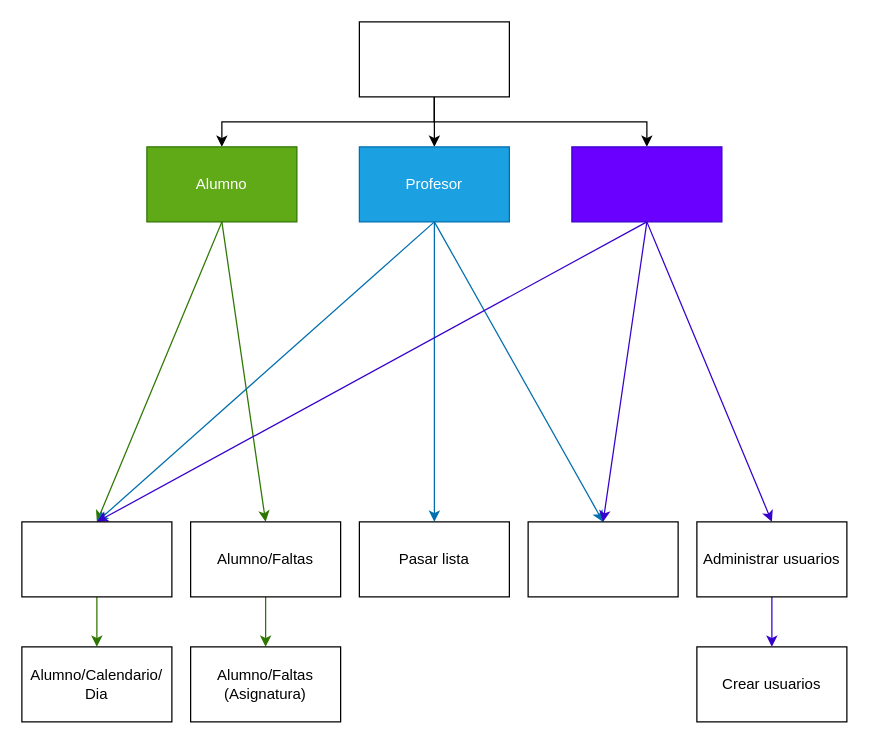
The diagram is 869 pixels wide and 744 high, and some of its shapes have lost their labels. The shapes that lost their labels are listed below. From the top down, each one's centre as x and y in pixels, then its label:
[433,59]: Incio
[646,184]: Gestion
[96,559]: Calendario
[602,559]: Profe-admin/Faltas
